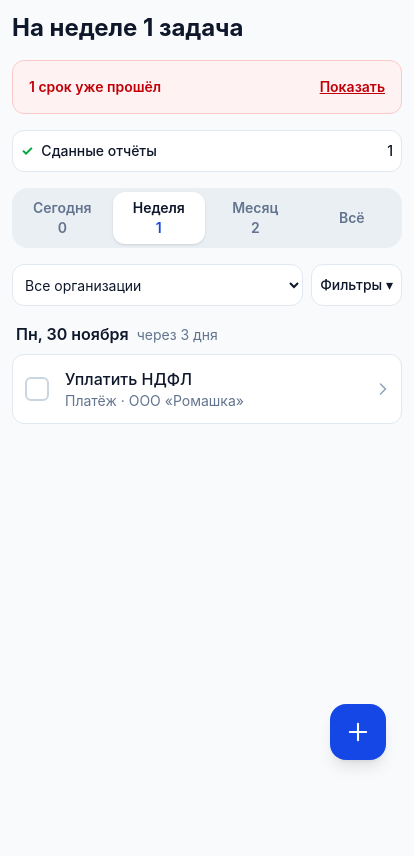
экран задач › открывается на ближайшую неделю, прошедшие сроки спрятаны
expect the heading "На неделе 1 задача" is shown: met, box x1=12 y1=13 x2=244 y2=42
expect the text "1 срок уже прошёл" is shown: met, box x1=29 y1=78 x2=161 y2=95
Click the tab "Месяц 2": [255, 218] box x1=209 y1=192 x2=302 y2=244
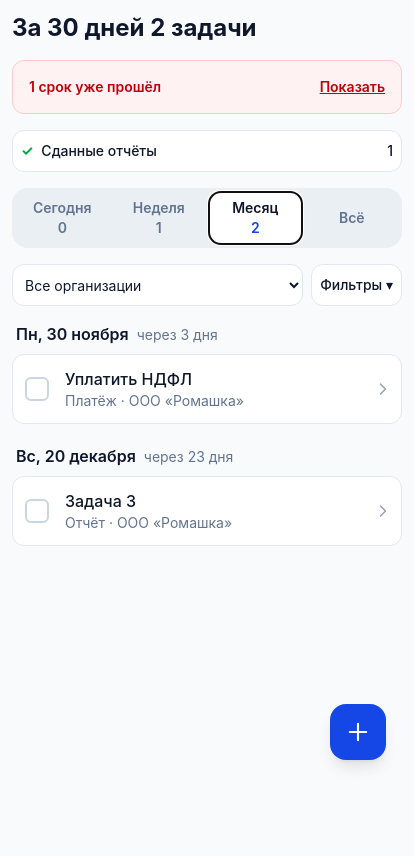
expect the text "Задача 3" is shown: met, box x1=65 y1=491 x2=136 y2=511
